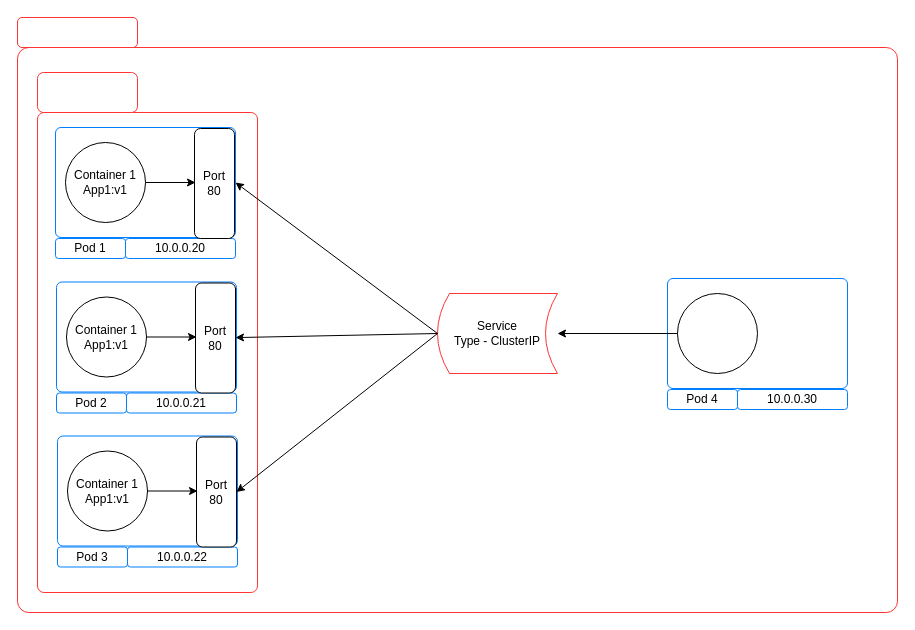
The diagram is 915 pixels wide and 630 high, and some of its shapes have lost their labels. Here are the shapes that lost their labels. From the top down, the centre of each, then its label:
(x=77, y=32): Worker Node
(x=87, y=92): ReplcaSet ReplicaCount = 3
(x=717, y=333): Container 1 App3:v1
